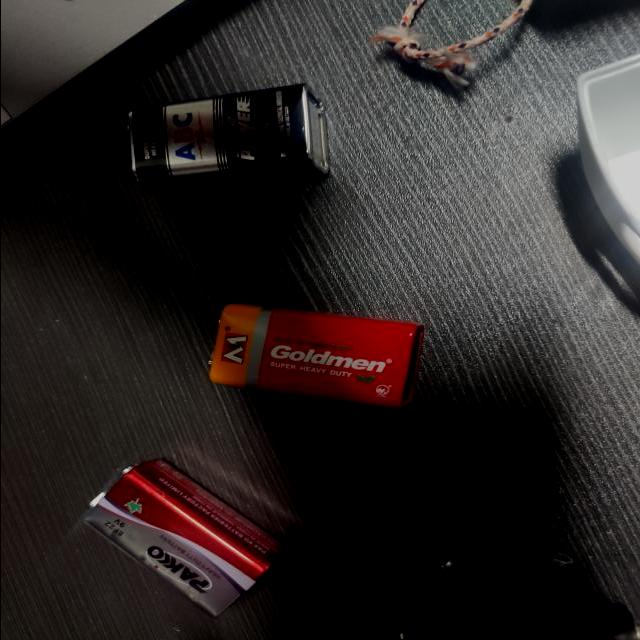9V: (69, 442, 312, 622), (120, 74, 346, 215), (190, 290, 436, 404)
